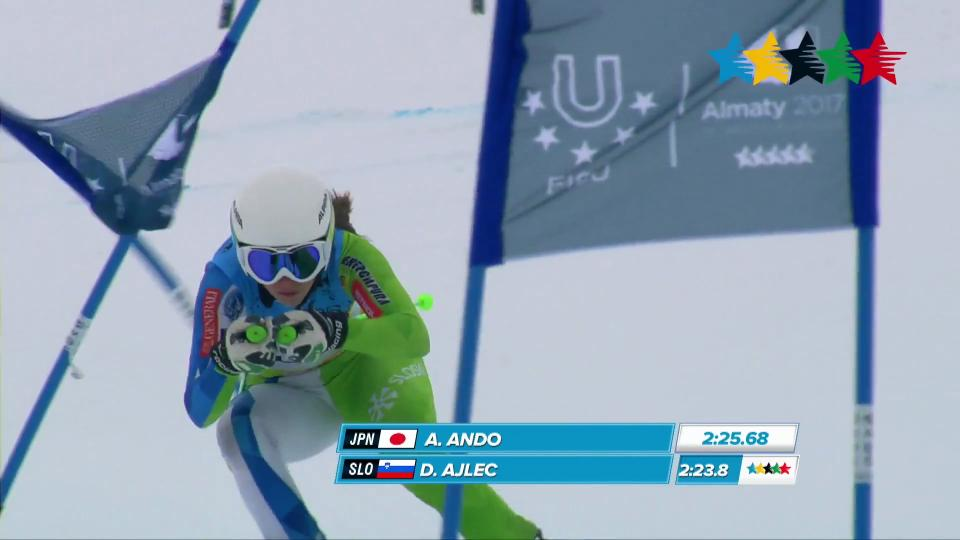gate: (415, 0, 570, 421), (827, 5, 907, 540)
